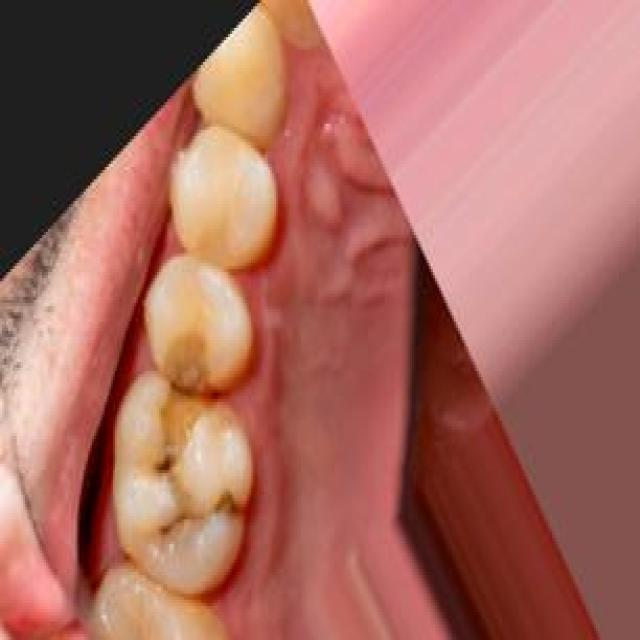caries: (140, 329, 221, 486), (144, 494, 204, 565), (198, 473, 255, 541)
